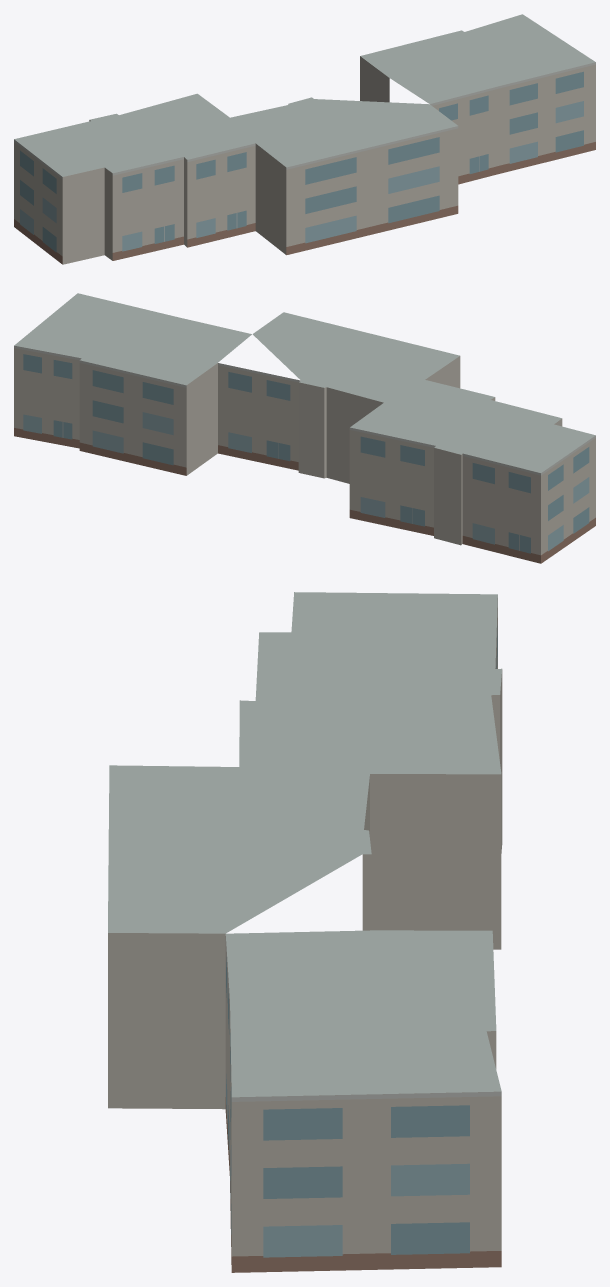
File: survey-upis-33012929.glb
3 renders of one model, top to bottom at view 1: azimuth 30°, elevation 25°; view 2: azimuth 150°, elevation 25°; view 3: azimuth 270°, elevation 25°, orthographic. The views are drawn at different scales.
Parts seen in each view (by area): view 1: survey-upis-33012929.tmp; view 2: survey-upis-33012929.tmp; view 3: survey-upis-33012929.tmp.
Boxes of the visible parts, x1,y1,x2,y2 form: survey-upis-33012929.tmp: [14, 14, 595, 264]; survey-upis-33012929.tmp: [14, 293, 595, 563]; survey-upis-33012929.tmp: [108, 592, 502, 1272].
Bounding box in the file's own units: 56.49 × 9.15 × 18.64.
